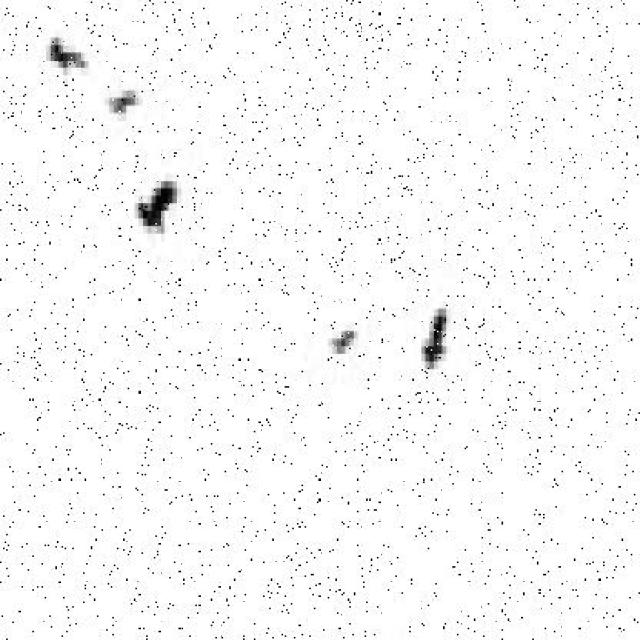bird: (127, 167, 185, 245), (408, 301, 459, 383), (46, 0, 90, 92), (322, 322, 373, 361), (108, 80, 140, 124)
